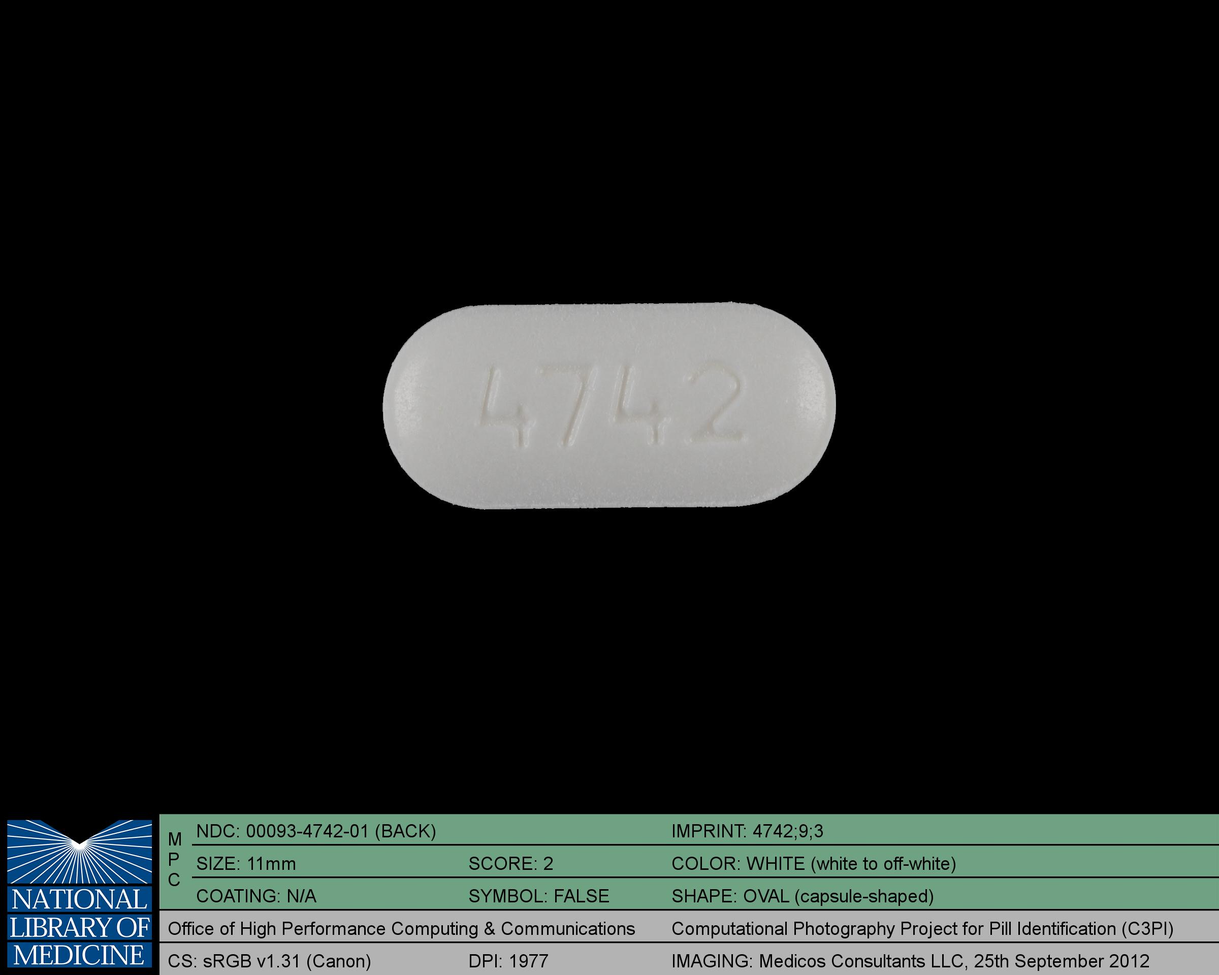Pill: (371, 291, 847, 523)
